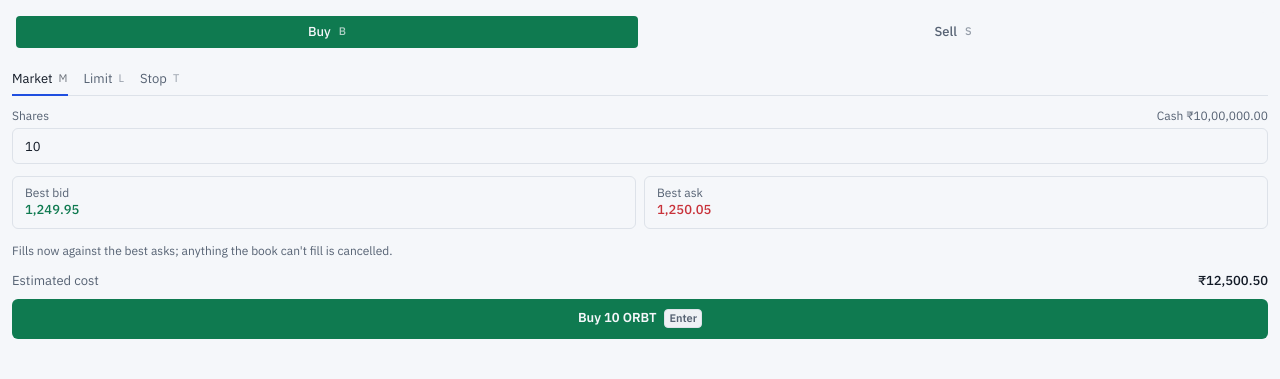
Test: OrderTicket › when the outcome is unknown › after a 201 with an empty body, keeps the id: the order may exist, so a resend must reuse it
The width and height of the screenshot is (1280, 379).
Click the button "Buy 10 ORBT Enter" at x=640, y=319, box [12,299,1268,339]
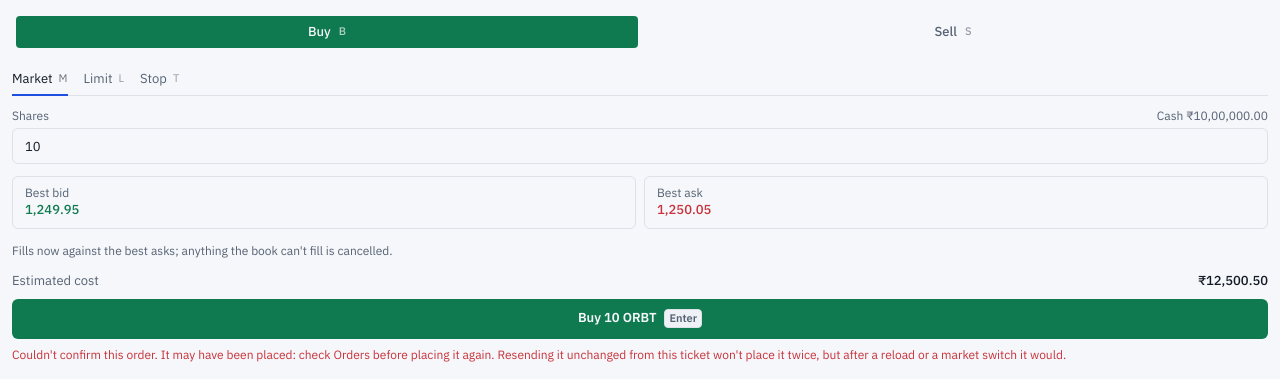
Expected: the text "Couldn't confirm this order. It may have been placed: check Orders" is shown, [12,347,1066,362]
Click the button "Buy 10 ORBT Enter" at x=640, y=319, box [12,299,1268,339]
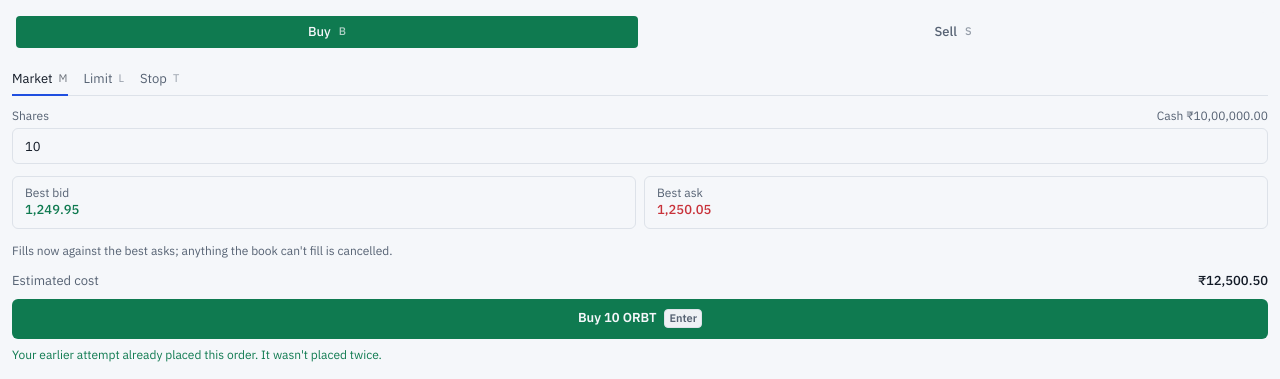
Expected: the text "Your earlier attempt already placed this order. It wasn't placed twice." is shown, [12,347,382,362]
